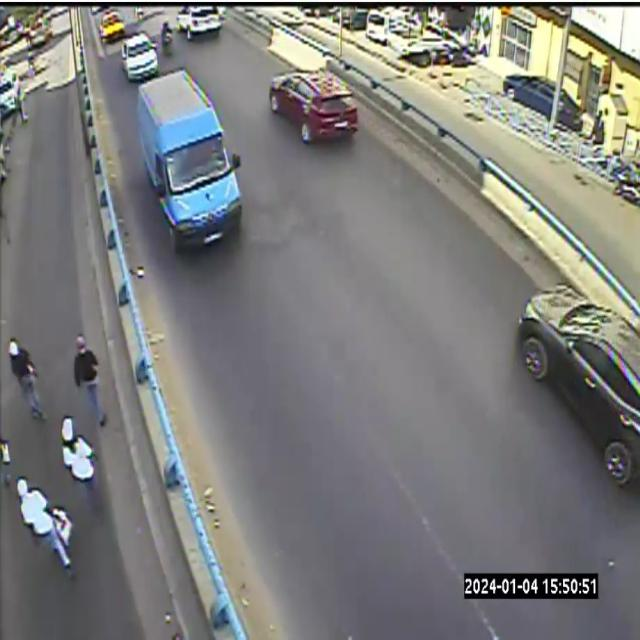car: (518, 284, 639, 485), (137, 68, 242, 249), (269, 70, 358, 143), (122, 33, 159, 81), (177, 5, 223, 40), (99, 11, 125, 42)
